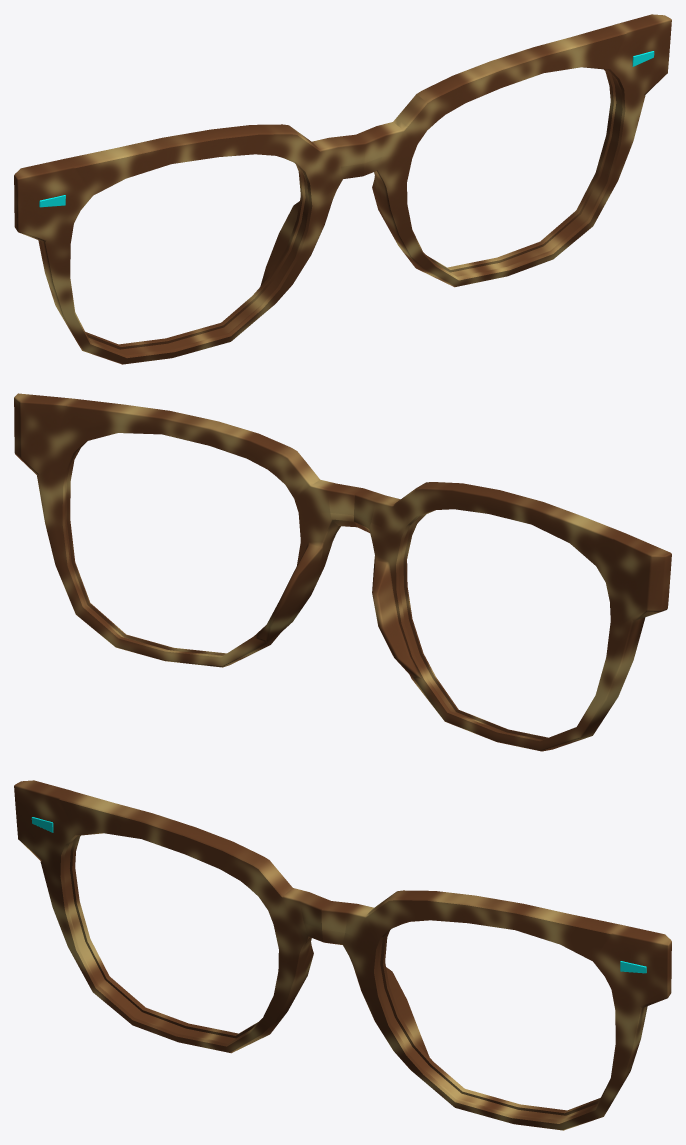
The model's file is Frame.obj.
3 renders of one model, top to bottom at view 1: azimuth 30°, elevation 25°; view 2: azimuth 150°, elevation 25°; view 3: azimuth 330°, elevation 25°, orthographic.
Visible parts, largest first — view 1: Frame; view 2: Frame; view 3: Frame.
Part boxes in pixels (x1,y1,x2,y2): Frame: (14,14,671,364); Frame: (14,393,671,751); Frame: (14,780,671,1130).
Bounding box in the file's own units: 13.98 × 4.71 × 1.36.
2 materials, 1 textured.
